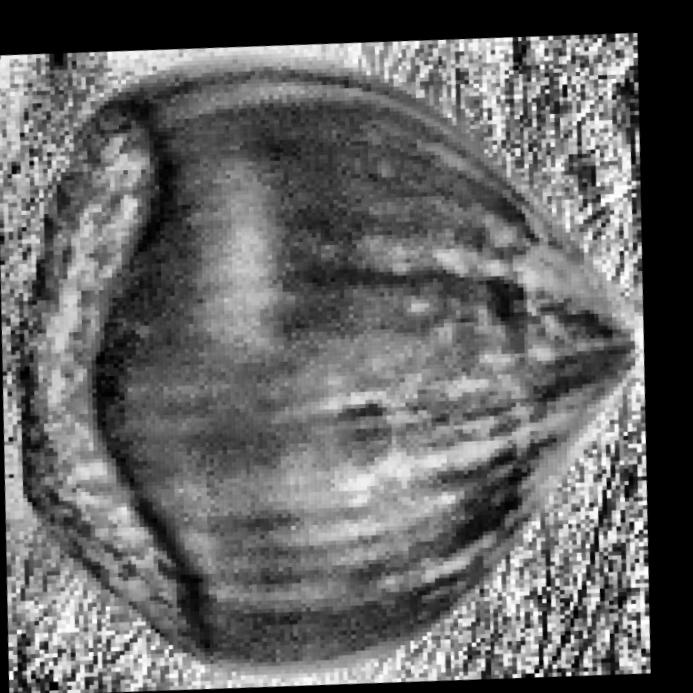qualityHazelnut: (0, 0, 693, 693)
